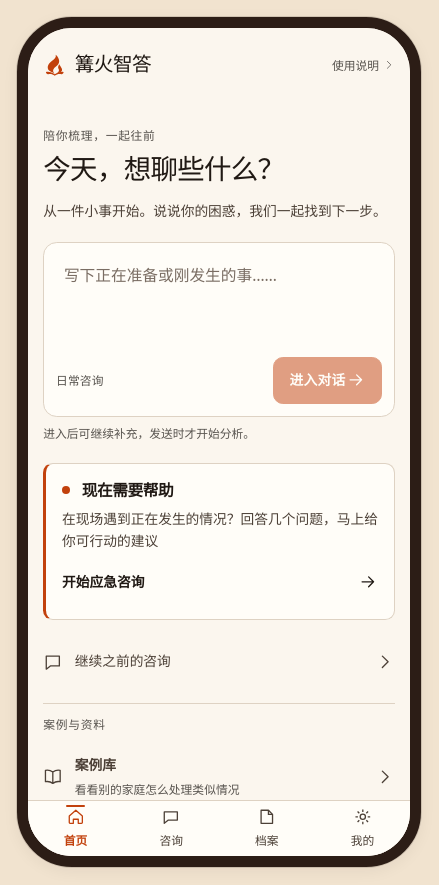
Test: 首页 · 咨询入口 › 请求未完成时重复提交只创建一个会话
The width and height of the screenshot is (439, 885).
Type "同一个问题" into the text box named "想聊的事情" at (219, 302), box [56,255,382,349]
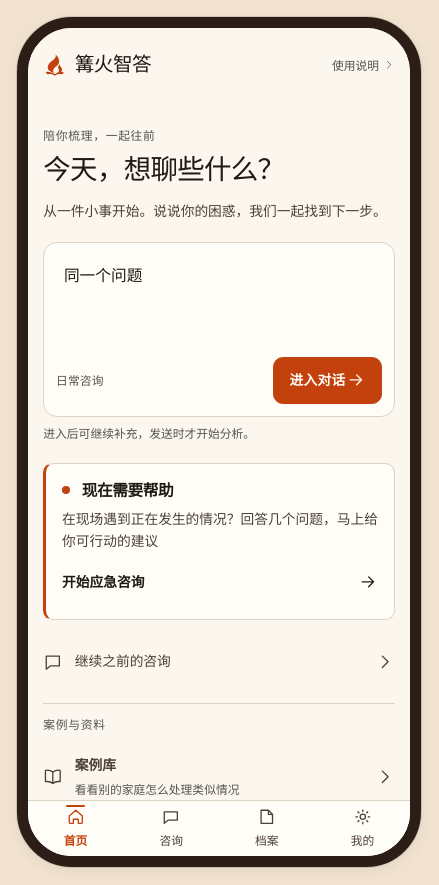
Submit the form "进入对话", box [43,242,395,416]
Submit the form "进入对话", box [43,242,395,416]
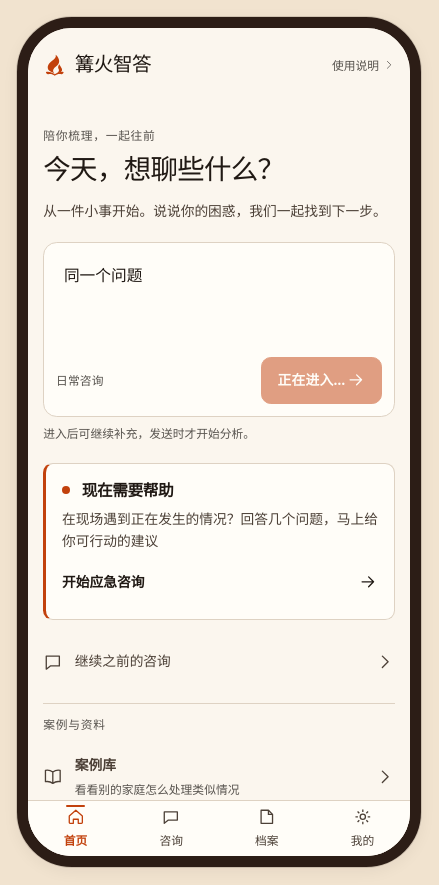
Check: the button "正在进入…" is disabled, box [261,357,382,404]
